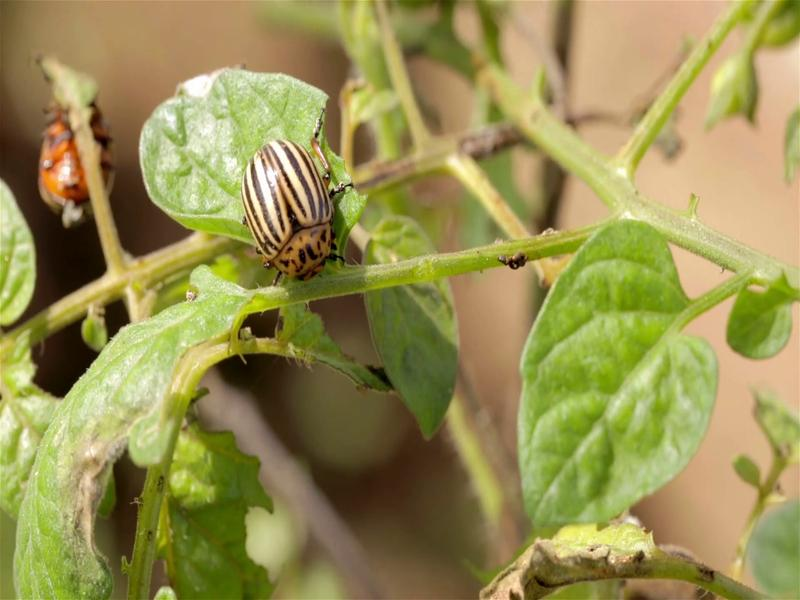hrosc: (229, 131, 342, 275)
